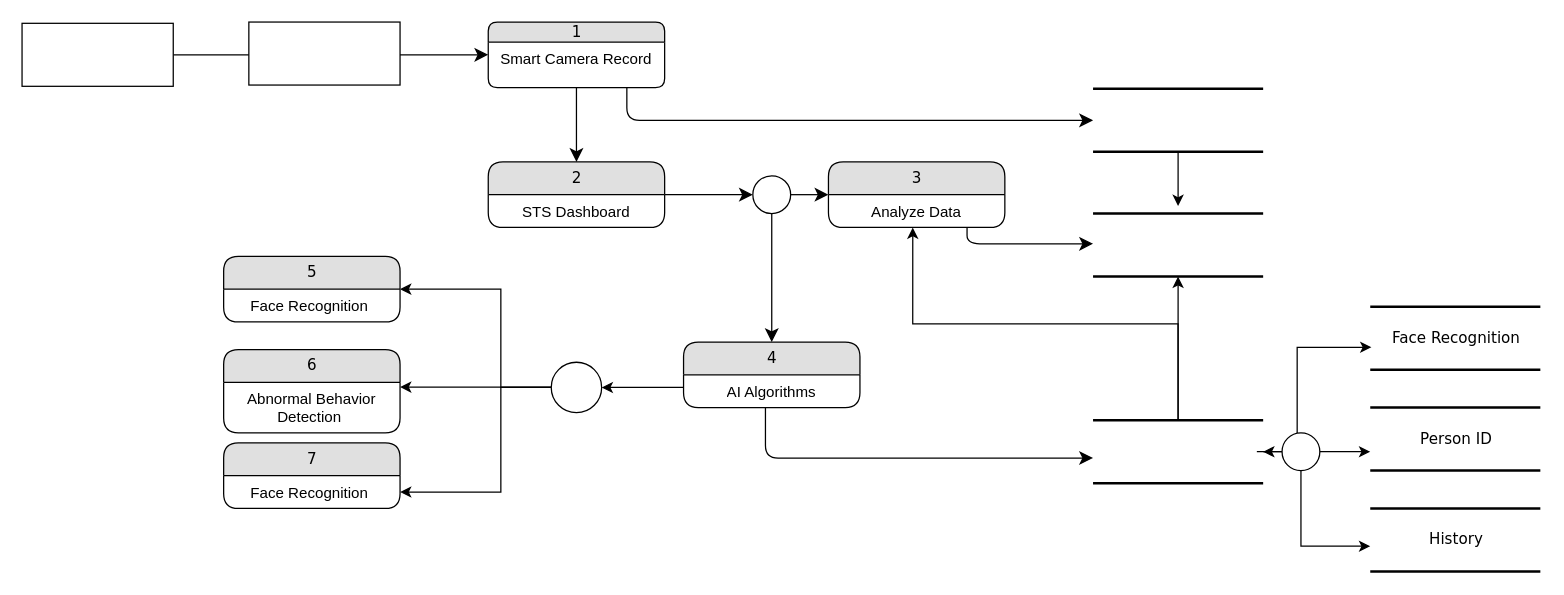
Some shapes in this 1564 by 595 pixel diagram are drawn without their labels. Here are the shapes that lost their labels. From the top down, the box of each, then its label:
(21, 22, 173, 86): Input
(248, 21, 400, 85): Smart Camera
(1091, 87, 1264, 152): Video DB
(1091, 212, 1264, 277): Main DB
(1091, 418, 1264, 484): AI DB
